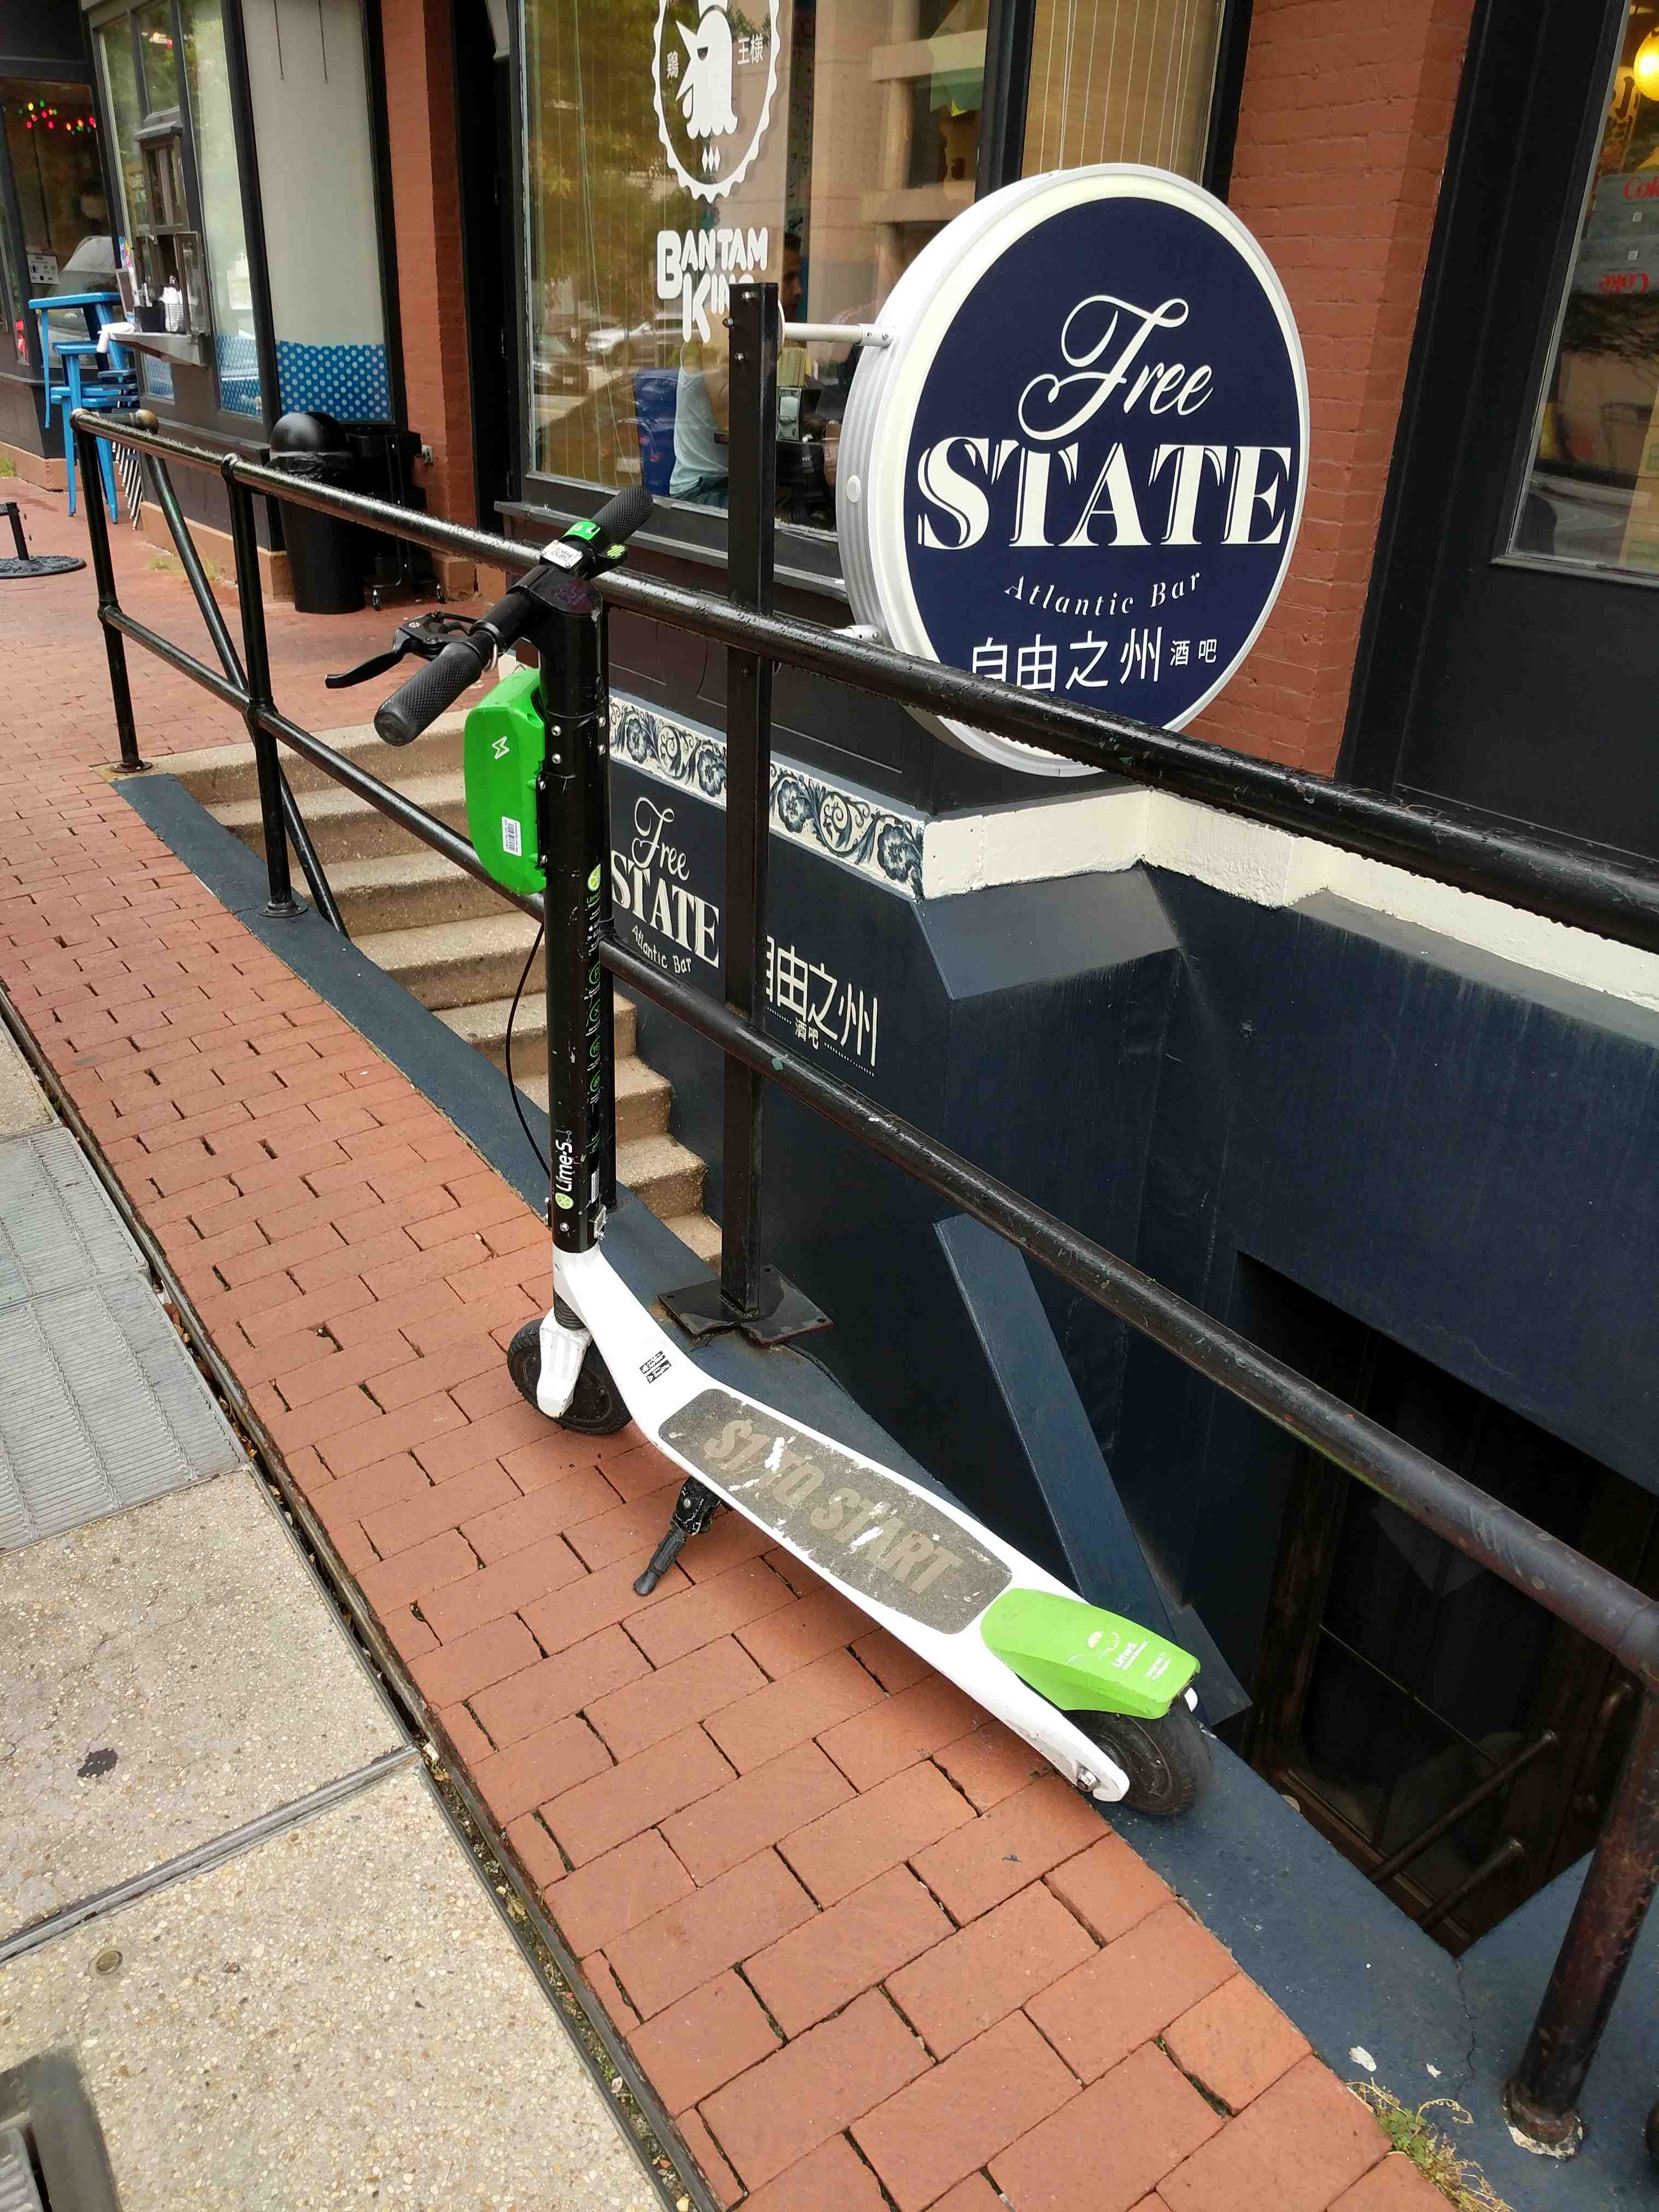scooter: (265, 460, 1263, 1838)
